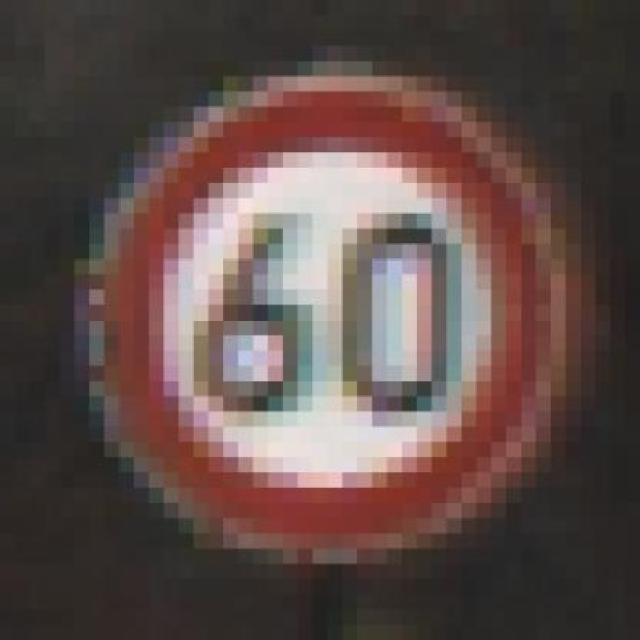forb_speed_over_60: (103, 87, 543, 542)
